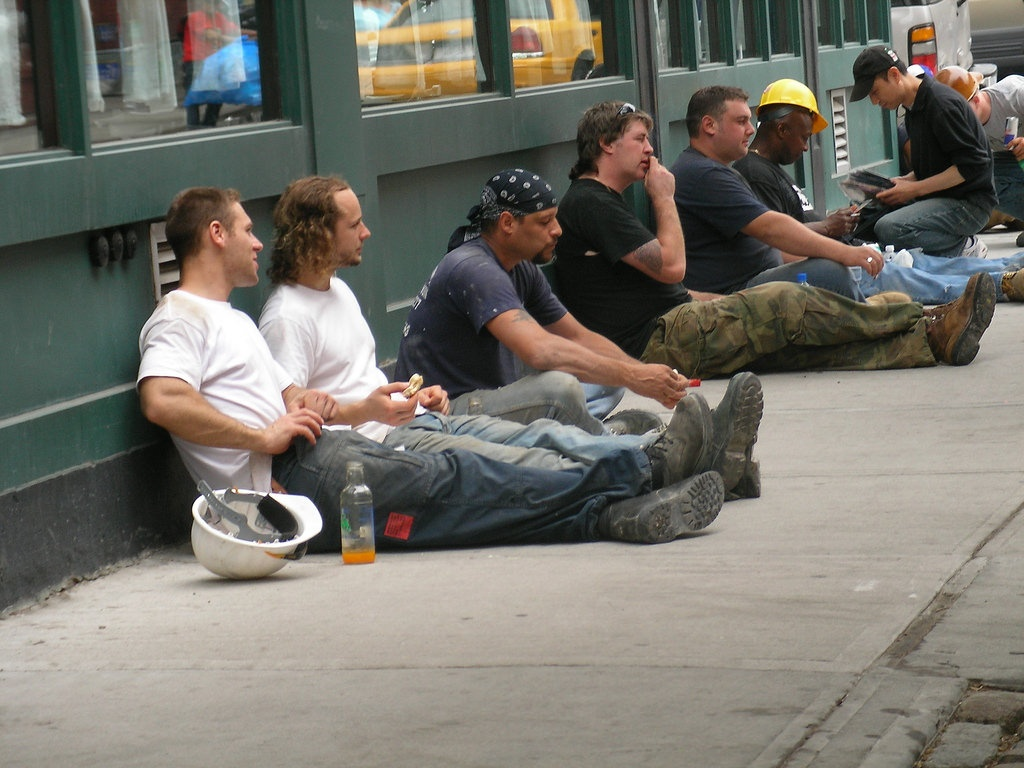none: (162, 183, 265, 293), (275, 174, 371, 278), (477, 167, 564, 267), (575, 97, 657, 185), (684, 82, 754, 162), (854, 41, 908, 114)
yellow: (757, 76, 823, 162), (936, 63, 980, 121)
